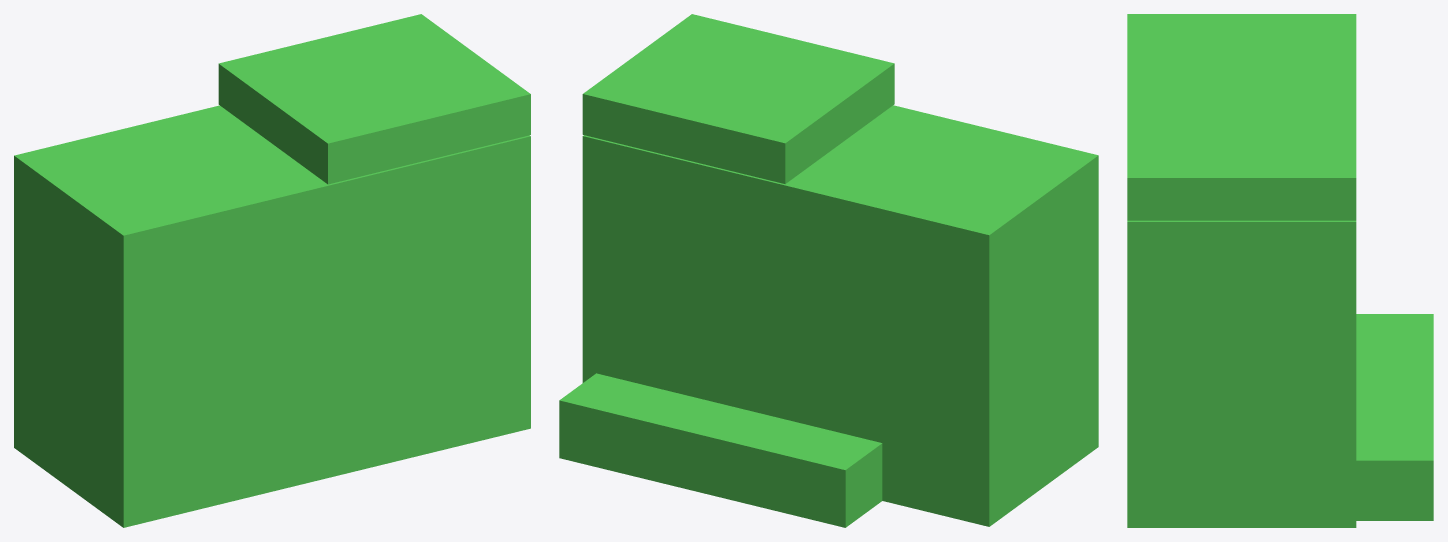
Rendered from building.glb.
3 views of the same model, side by side, from view 1: azimuth 30°, elevation 25°; view 2: azimuth 150°, elevation 25°; view 3: azimuth 270°, elevation 25° (orthographic). The views are drawn at different scales.
Visible parts, largest first — view 1: Box003, Box004; view 2: Box003, Box004, Box005; view 3: Box003, Box004, Box005.
Part boxes in pixels (x1=…): Box003: x1=14, y1=105, x2=530, y2=527; Box004: x1=218, y1=14, x2=530, y2=184; Box003: x1=582, y1=105, x2=1098, y2=526; Box004: x1=582, y1=14, x2=894, y2=183; Box005: x1=559, y1=373, x2=882, y2=527; Box003: x1=1127, y1=14, x2=1356, y2=527; Box004: x1=1127, y1=74, x2=1356, y2=220; Box005: x1=1356, y1=314, x2=1433, y2=520.
Size of the model in its own units: 0.8521 by 0.6686 by 0.5307.
